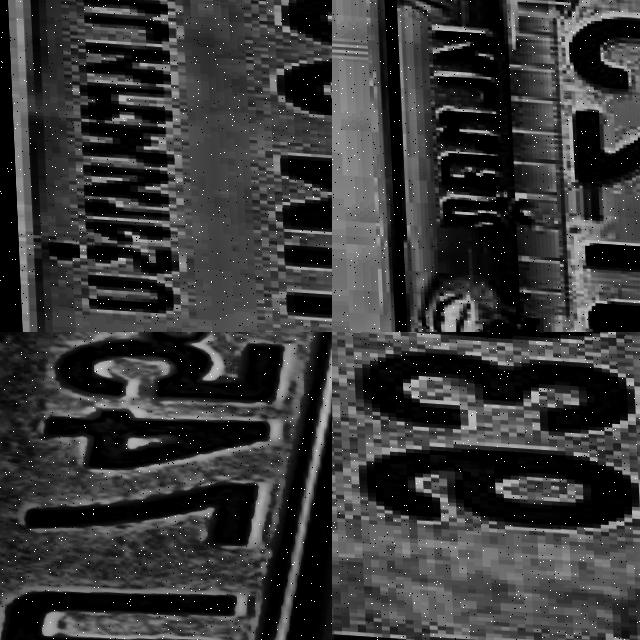license-plate: (0, 0, 332, 332), (0, 332, 332, 640), (335, 0, 640, 332), (332, 332, 640, 640)
